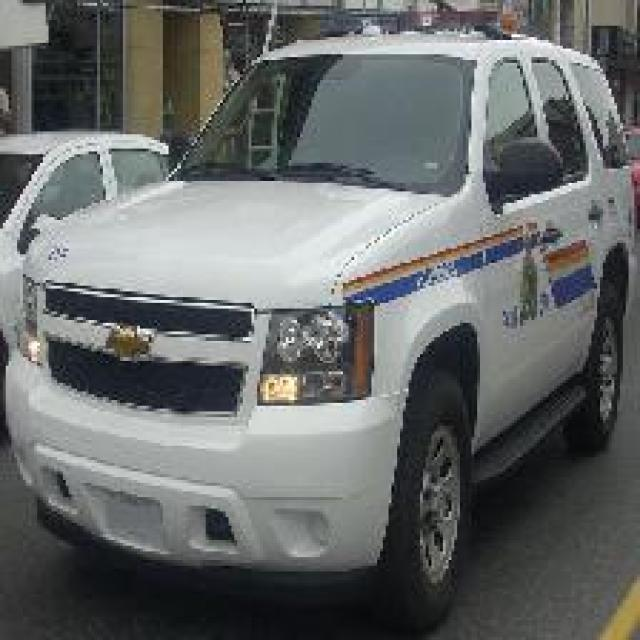Car: (3, 14, 637, 629), (0, 128, 171, 434)
